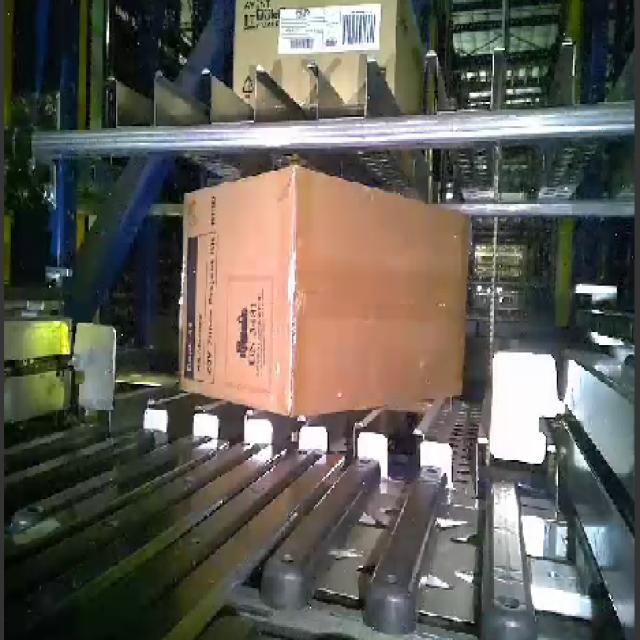box: (292, 167, 471, 421)
